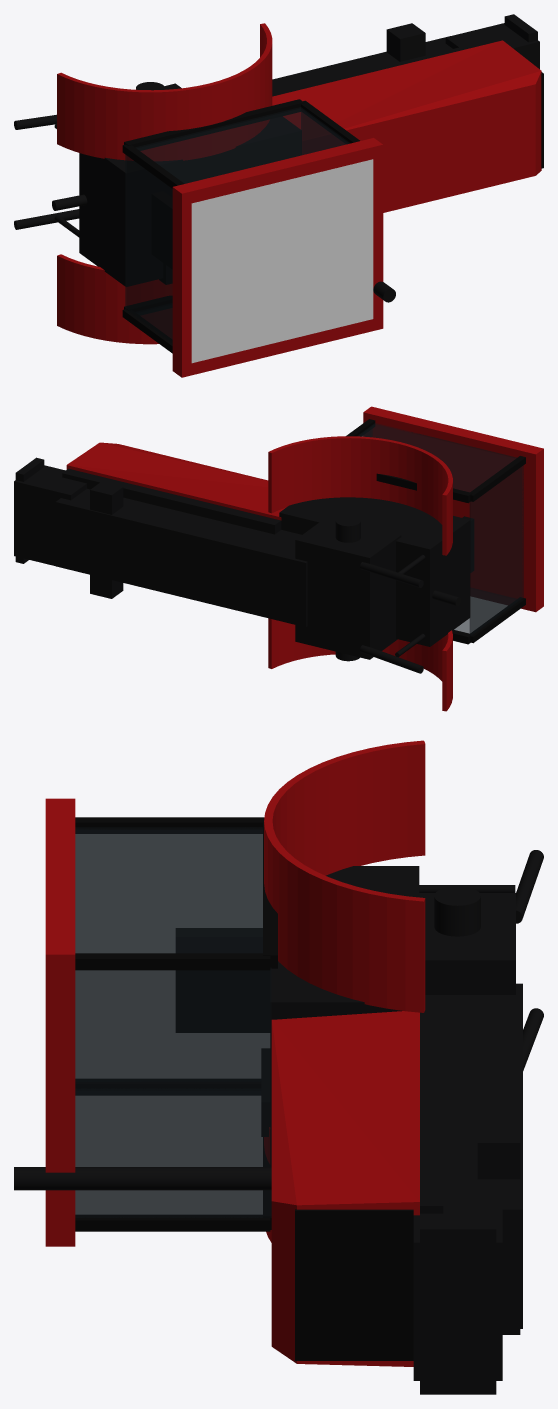
File: body.obj
The picture shows the model from 3 angles, top to bottom: view 1: azimuth 30°, elevation 25°; view 2: azimuth 150°, elevation 25°; view 3: azimuth 270°, elevation 25°; orthographic projection. The views are drawn at different scales.
Visible parts, largest first — view 1: mf_5710_body; view 2: mf_5710_body; view 3: mf_5710_body.
Part boxes in pixels (left/top/right/bottom): mf_5710_body: left=14, top=14, right=543, bottom=377; mf_5710_body: left=14, top=406, right=543, bottom=711; mf_5710_body: left=14, top=740, right=543, bottom=1394.
Size of the model in its own units: 4.22 by 2.08 by 2.5.
